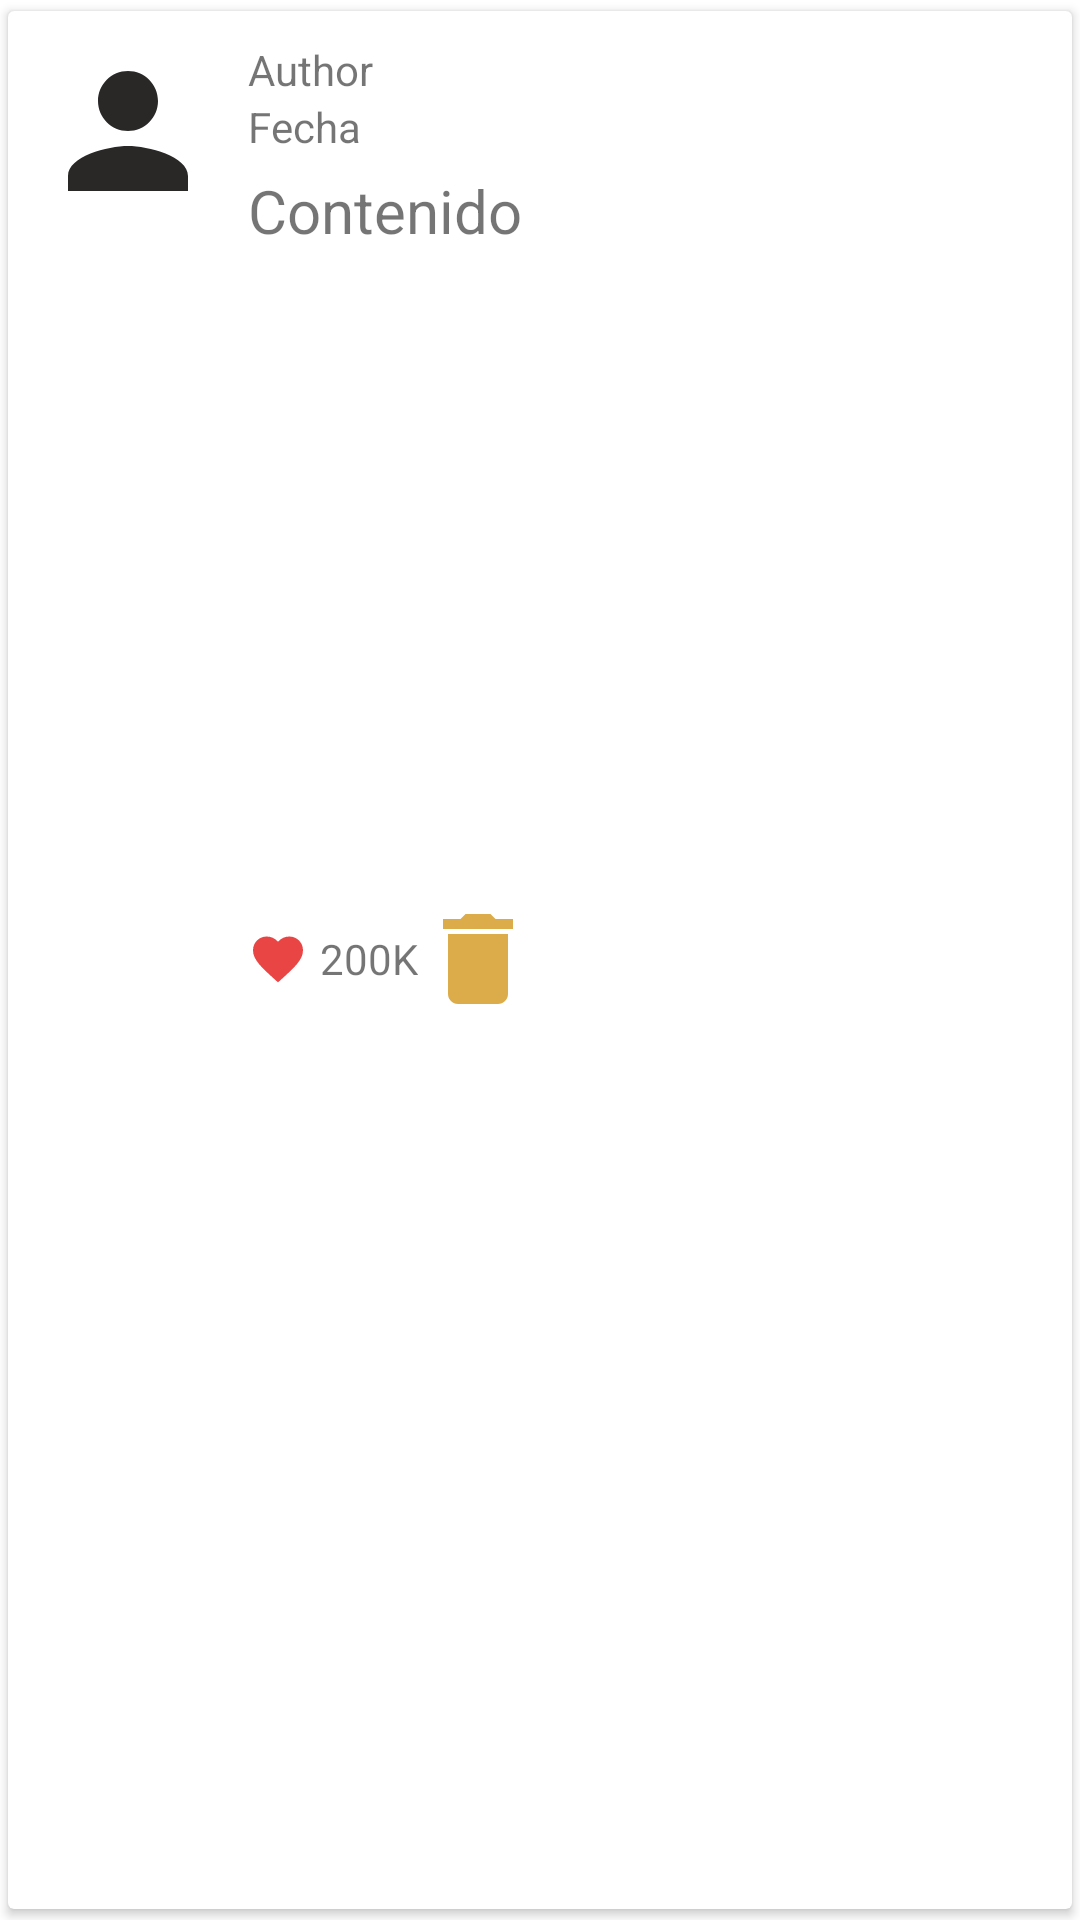

Point at icon controls on the screen. Image size 1080 x 1920, points as (x,y).
like on: (278,959)
user: (128,131)
